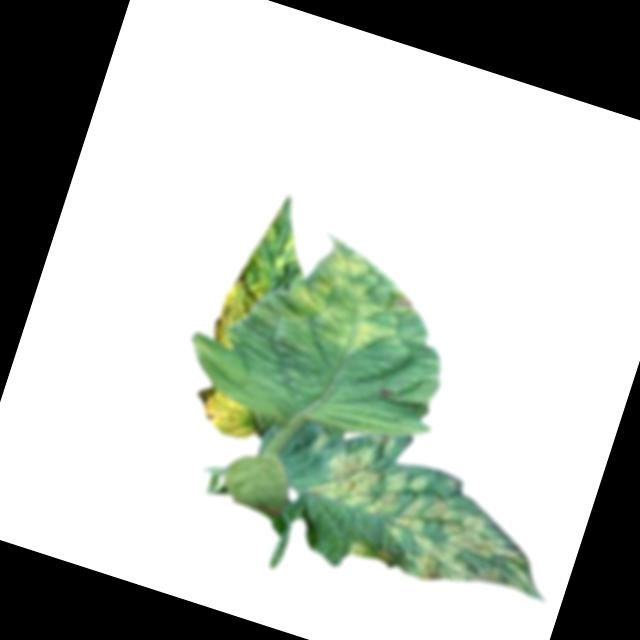Leaf_Mold: (301, 422, 579, 620), (278, 231, 424, 365), (205, 267, 268, 356), (189, 381, 267, 443)
